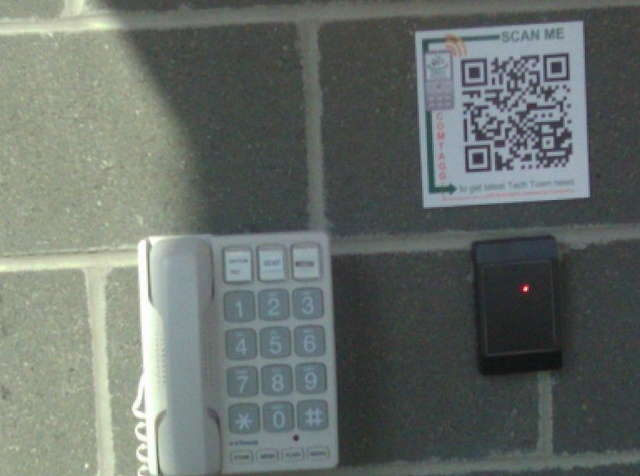QR-CODE: (460, 53, 572, 172)
